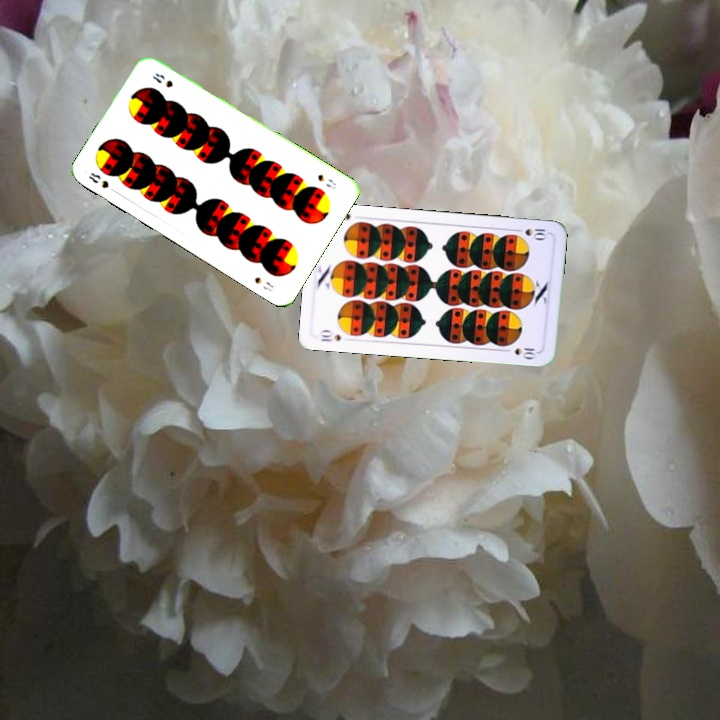S10: (510, 225, 549, 242), (316, 326, 343, 344)
S8: (85, 168, 111, 191), (314, 170, 339, 192)
